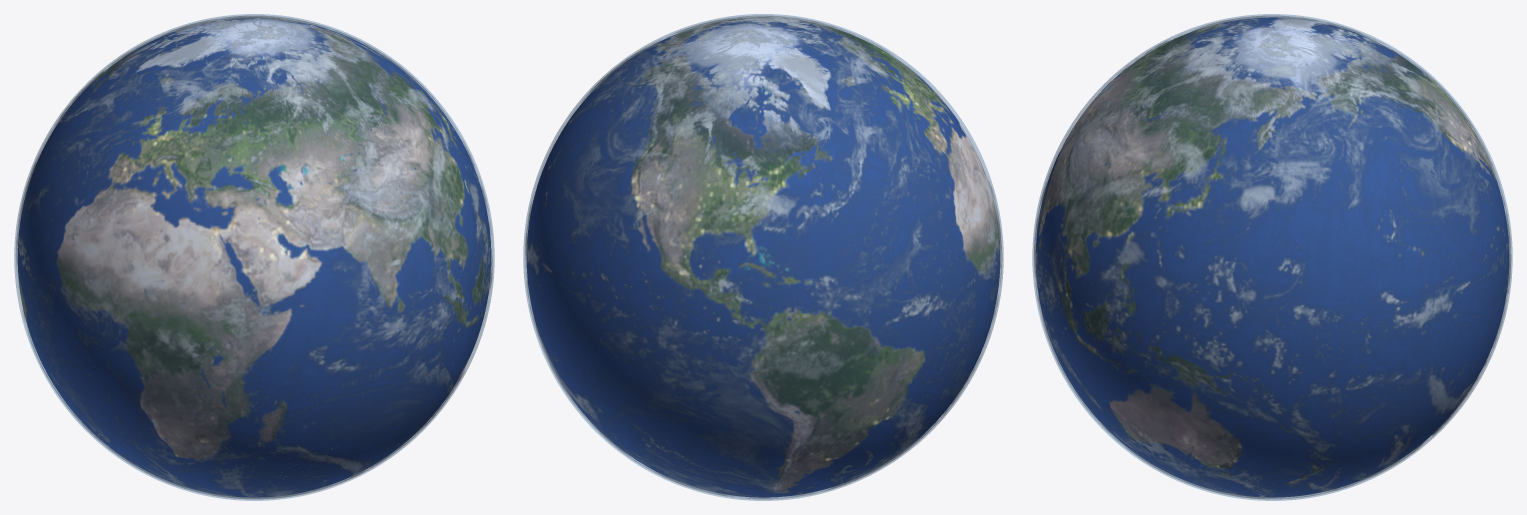
Rendered from game-earth.glb.
3 views of the same model, side by side, from view 1: azimuth 30°, elevation 25°; view 2: azimuth 150°, elevation 25°; view 3: azimuth 270°, elevation 25° (orthographic).
Parts seen in each view (by area): view 1: pSphere1_phong1_0, pSphere5_lambert7_0, pSphere1_phong1_0.001, pSphere5_lambert7_0.001, pSphere4_lambert6_0.001, pSphere4_lambert6_0; view 2: pSphere5_lambert7_0, pSphere1_phong1_0, pSphere4_lambert6_0, pSphere1_phong1_0.001, pSphere5_lambert7_0.001, pSphere4_lambert6_0.001; view 3: pSphere5_lambert7_0.001, pSphere1_phong1_0.001, pSphere1_phong1_0, pSphere5_lambert7_0, pSphere4_lambert6_0, pSphere4_lambert6_0.001.
Part boxes in pixels (x1,y1,x2,y2): pSphere1_phong1_0: [17, 17, 480, 497]; pSphere5_lambert7_0: [14, 14, 483, 500]; pSphere1_phong1_0.001: [35, 19, 491, 495]; pSphere5_lambert7_0.001: [32, 16, 494, 499]; pSphere4_lambert6_0.001: [33, 18, 492, 497]; pSphere4_lambert6_0: [16, 15, 482, 499]; pSphere5_lambert7_0: [523, 14, 1002, 495]; pSphere1_phong1_0: [526, 17, 999, 496]; pSphere4_lambert6_0: [525, 15, 1000, 494]; pSphere1_phong1_0.001: [556, 20, 1000, 497]; pSphere5_lambert7_0.001: [532, 16, 1003, 500]; pSphere4_lambert6_0.001: [583, 18, 1002, 499]; pSphere5_lambert7_0.001: [1032, 16, 1346, 477]; pSphere1_phong1_0.001: [1036, 19, 1345, 475]; pSphere1_phong1_0: [1036, 17, 1509, 497]; pSphere5_lambert7_0: [1032, 14, 1512, 500]; pSphere4_lambert6_0: [1034, 15, 1510, 499]; pSphere4_lambert6_0.001: [1034, 19, 1344, 476].
Bounding box in the file's own units: 192 × 196 × 192.
3 materials, 2 textured.
